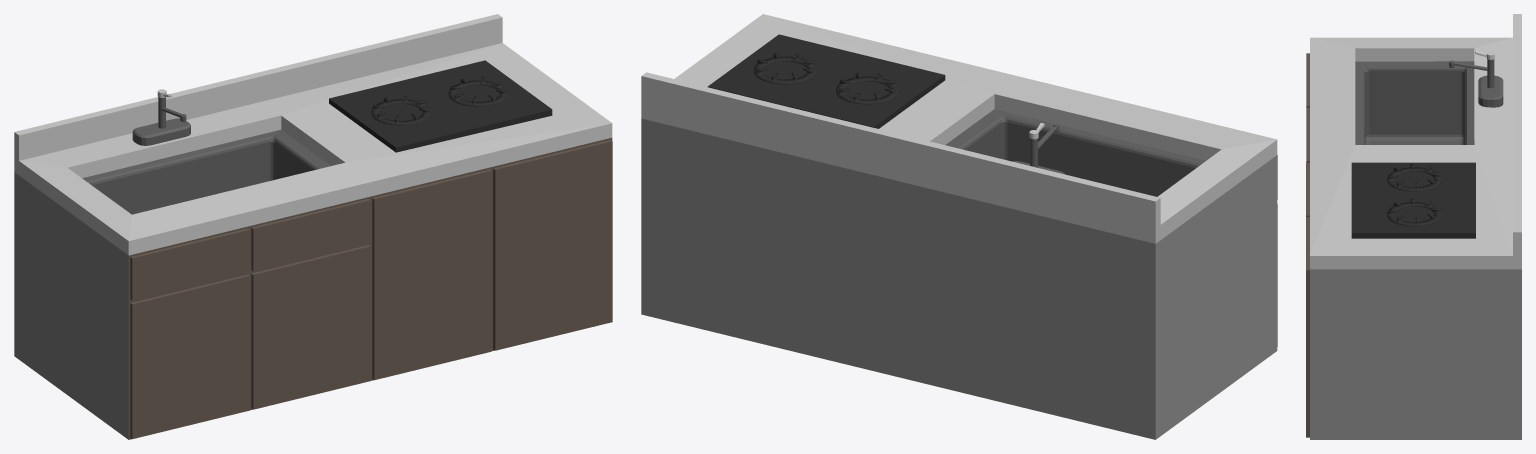
The model's file is Kitchin.fbx.
3 renders of one model, left to right at view 1: azimuth 30°, elevation 25°; view 2: azimuth 150°, elevation 25°; view 3: azimuth 270°, elevation 25°, orthographic. The views are drawn at different scales.
Parts seen in each view (by area): view 1: 立方体; view 2: 立方体; view 3: 立方体.
Part boxes in pixels (x1=…): 立方体: x1=14, y1=14, x2=612, y2=439; 立方体: x1=641, y1=14, x2=1277, y2=439; 立方体: x1=1306, y1=14, x2=1521, y2=439.
Size of the model in its own units: 509 by 249 by 212.
